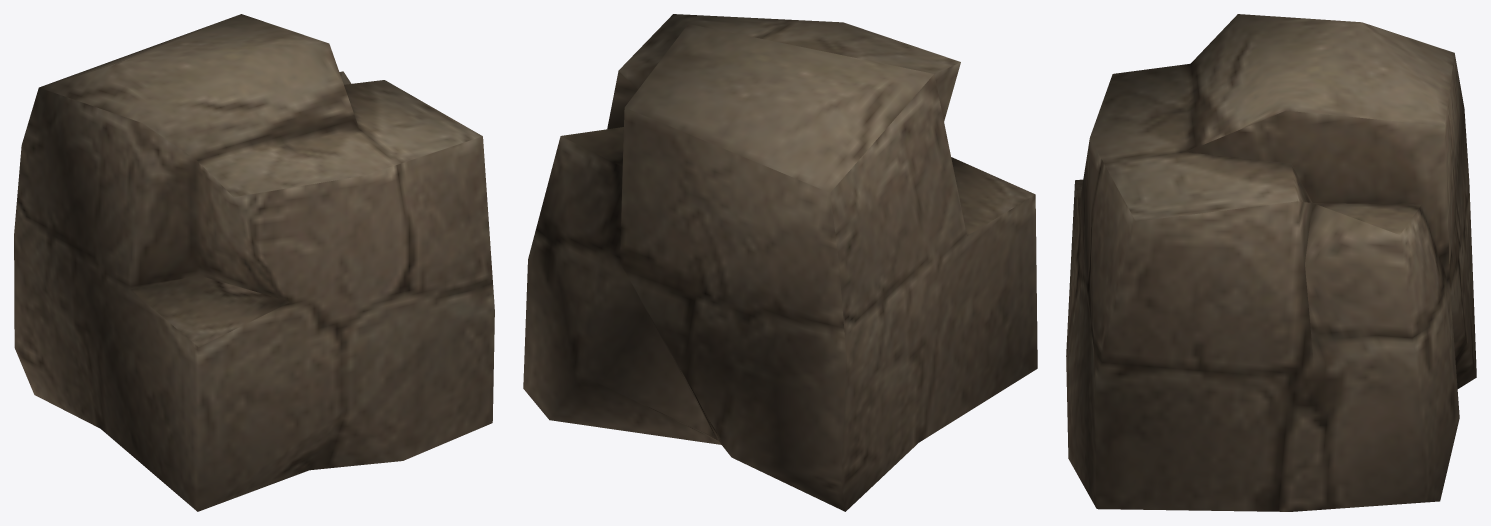
Rendered from shitou01.FBX.
The picture shows the model from 3 angles, left to right: view 1: azimuth 30°, elevation 25°; view 2: azimuth 150°, elevation 25°; view 3: azimuth 270°, elevation 25°; orthographic projection. The views are drawn at different scales.
Parts seen in each view (by area): view 1: Group41580; view 2: Group41580; view 3: Group41580.
Boxes of the visible parts, left/top/right/bottom form: Group41580: left=14, top=14, right=494, bottom=511; Group41580: left=523, top=14, right=1037, bottom=511; Group41580: left=1066, top=14, right=1476, bottom=511.
Bounding box in the file's own units: 28.64 × 29.77 × 29.34.
